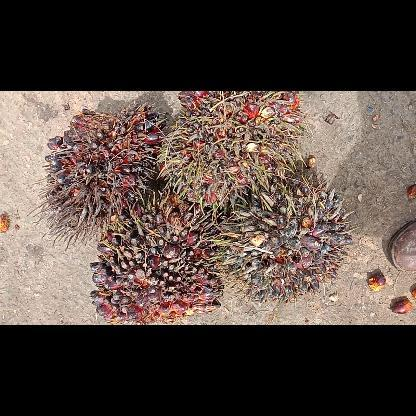TBS abnormal: (210, 176, 348, 300), (157, 92, 301, 206), (46, 106, 164, 235), (91, 220, 227, 324)
